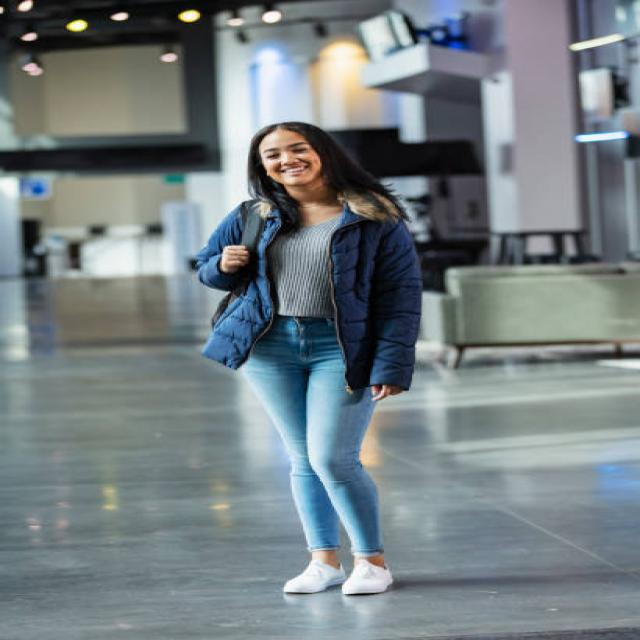Real human 2: (170, 114, 488, 621)
